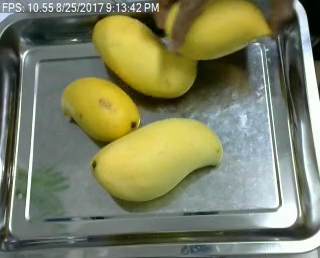Mango: (87, 112, 225, 203), (94, 14, 198, 100), (163, 0, 270, 66), (60, 74, 141, 142)
